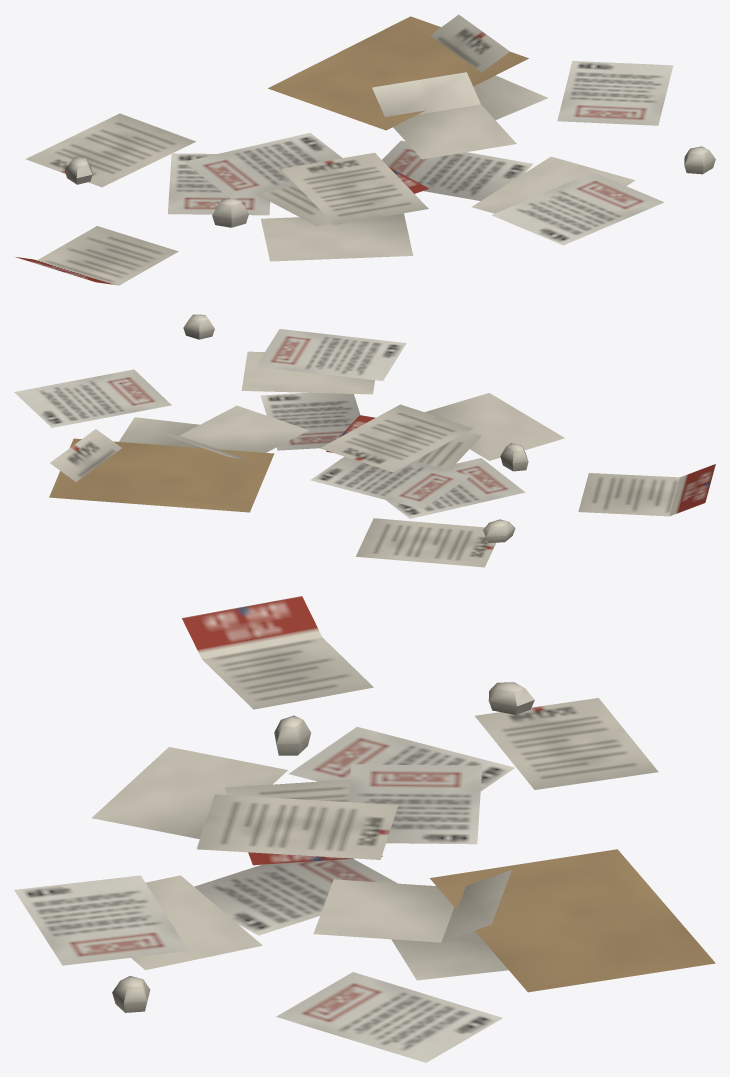
File: debris_papers.glb
3 renders of one model, top to bottom at view 1: azimuth 30°, elevation 25°; view 2: azimuth 150°, elevation 25°; view 3: azimuth 270°, elevation 25°, orthographic. The views are drawn at different scales.
Visible parts, largest first — view 1: debris_papers; view 2: debris_papers; view 3: debris_papers.
Part boxes in pixels (x1,y1,x2,y2): debris_papers: (15, 14, 715, 285); debris_papers: (14, 314, 715, 567); debris_papers: (14, 596, 715, 1062).
Bounding box in the file's own units: 1.69 × 0.0607 × 1.12.
1 material, 1 textured.
